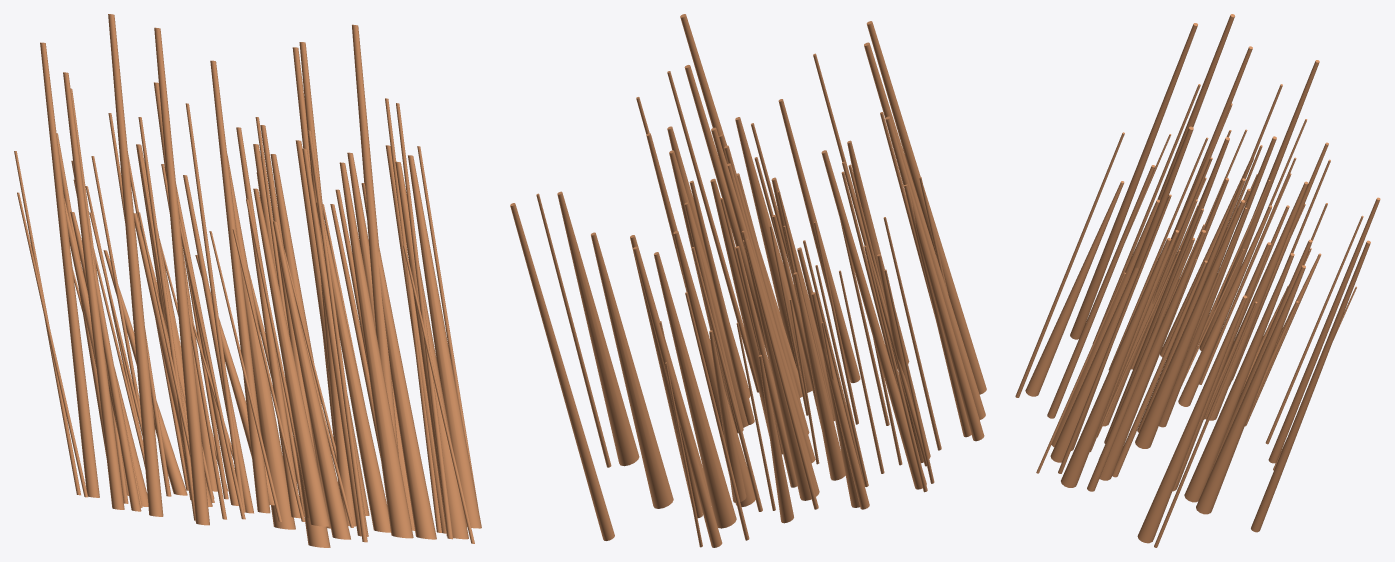
The model's file is OU_D_Under Water God Rays.fbx.
3 views of the same model, side by side, from view 1: azimuth 30°, elevation 25°; view 2: azimuth 150°, elevation 25°; view 3: azimuth 270°, elevation 25° (orthographic). The views are drawn at different scales.
Parts seen in each view (by area): view 1: OU_D_Under_Water_God_Rays; view 2: OU_D_Under_Water_God_Rays; view 3: OU_D_Under_Water_God_Rays.
Boxes of the visible parts, x1=… form: OU_D_Under_Water_God_Rays: x1=14, y1=14, x2=481, y2=547; OU_D_Under_Water_God_Rays: x1=510, y1=14, x2=986, y2=547; OU_D_Under_Water_God_Rays: x1=1015, y1=14, x2=1380, y2=547.
Size of the model in its own units: 12480 by 17431 by 13621.
